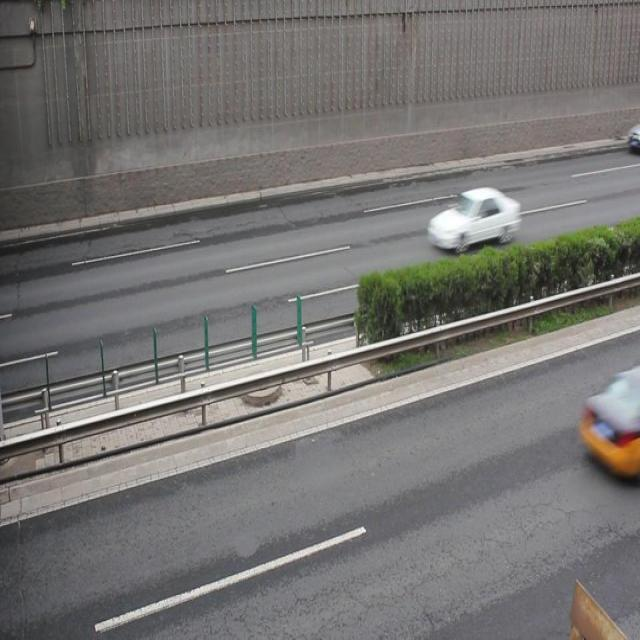car: (581, 370, 640, 477), (427, 190, 517, 253)
